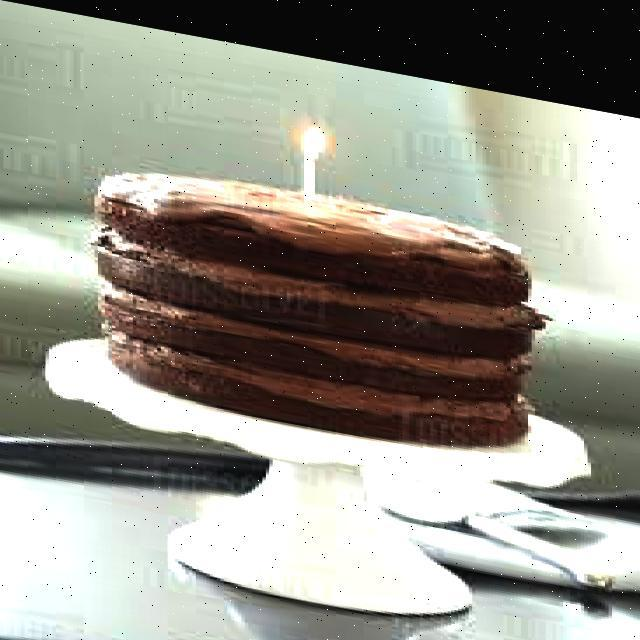Fire: (286, 108, 326, 150)
